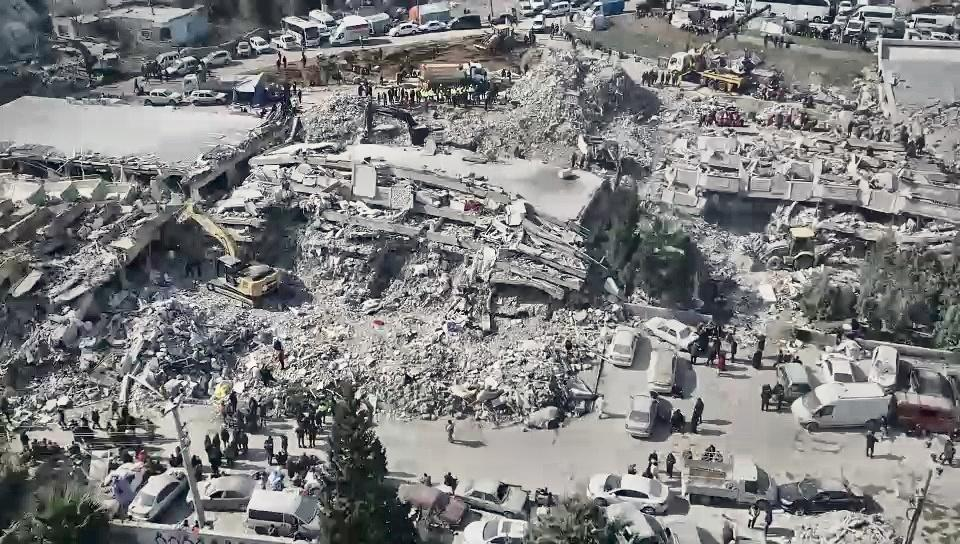kapali: (0, 328, 597, 499)
